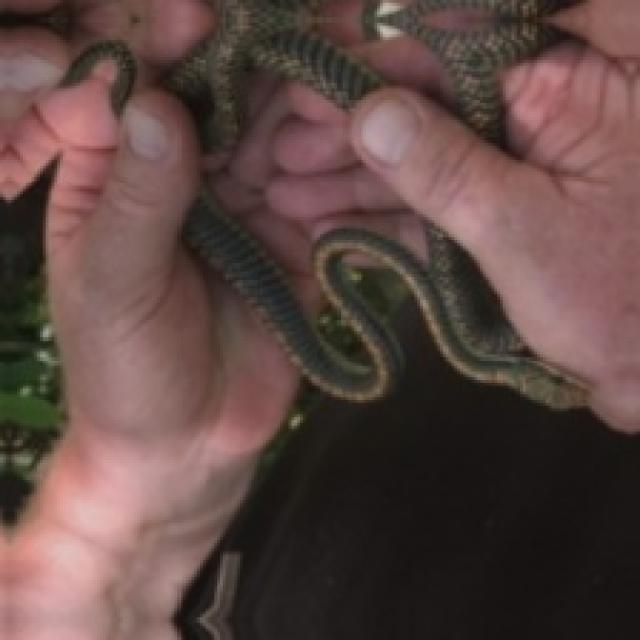paradise tree snake: (157, 0, 589, 406)
